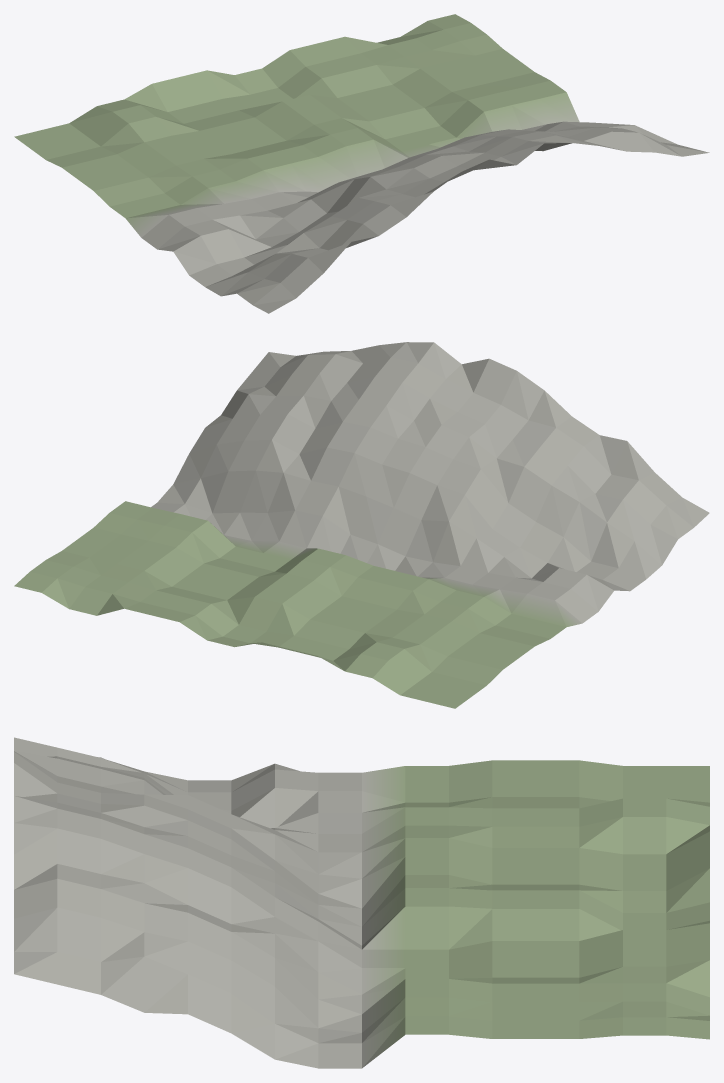
3 renders of one model, top to bottom at view 1: azimuth 30°, elevation 25°; view 2: azimuth 150°, elevation 25°; view 3: azimuth 270°, elevation 25°, orthographic. The views are drawn at different scales.
Size of the model in its own units: 32 by 8.54 by 32.
